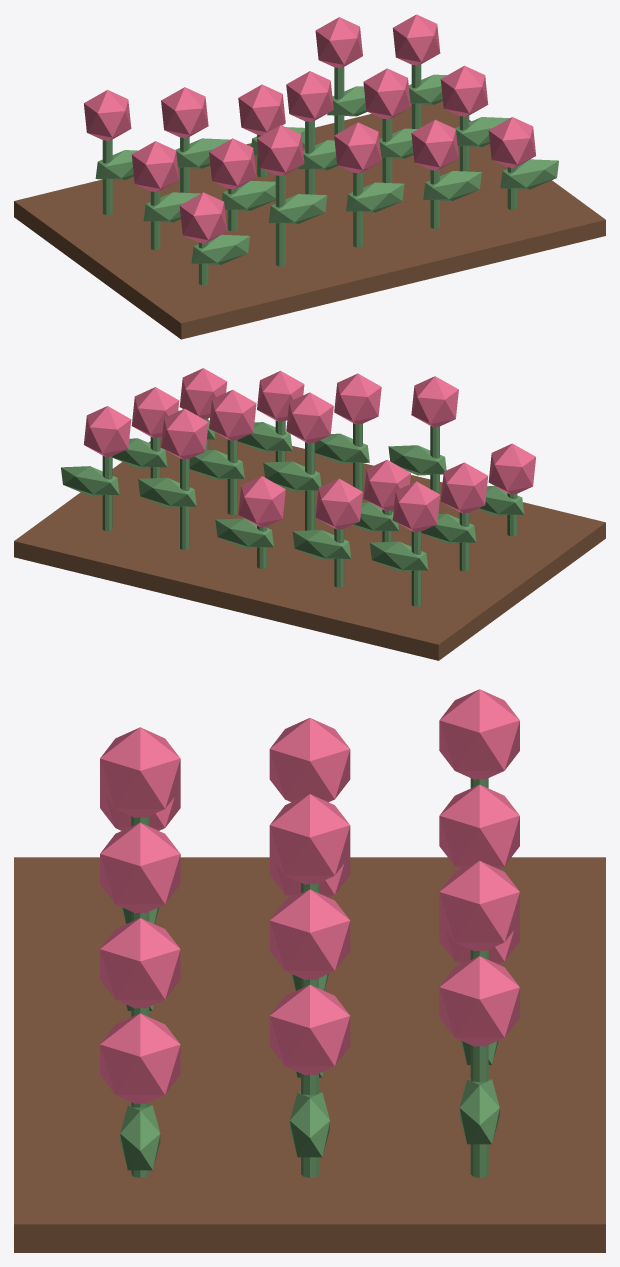
The model's file is nature_wildflowers.glb.
3 views of the same model, one above another, from view 1: azimuth 30°, elevation 25°; view 2: azimuth 150°, elevation 25°; view 3: azimuth 270°, elevation 25° (orthographic). The views are drawn at different scales.
Visible parts, largest first — view 1: nature_wildflowers; view 2: nature_wildflowers; view 3: nature_wildflowers.
Part boxes in pixels (bbox=[...]): nature_wildflowers: bbox=[14, 14, 605, 339]; nature_wildflowers: bbox=[14, 368, 605, 660]; nature_wildflowers: bbox=[14, 689, 605, 1252].
Bounding box in the file's own units: 2.2 × 0.77 × 1.5.
